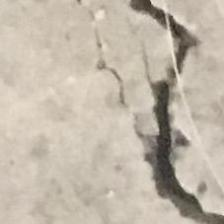Crack: (101, 0, 224, 224)
